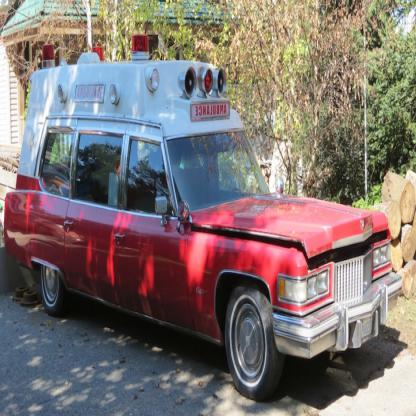Ambulance: (3, 21, 401, 396)
